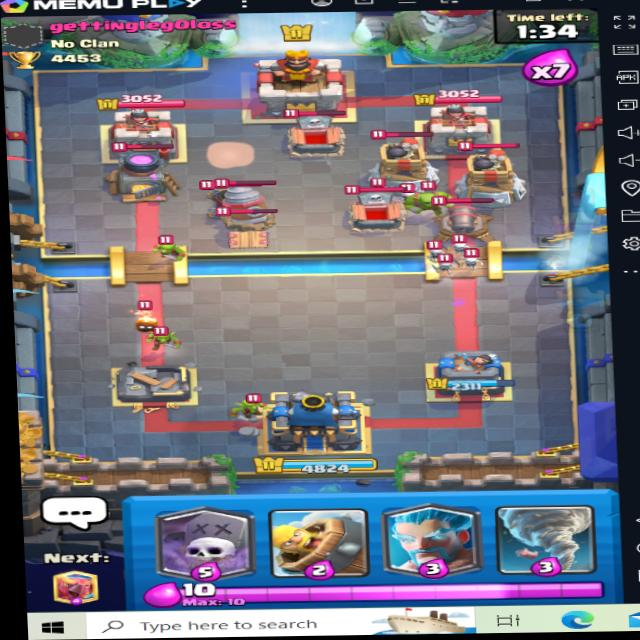bomb-tower: (456, 140, 532, 203), (369, 129, 441, 195)
brawler: (401, 181, 459, 213)
cannon: (425, 194, 508, 243)
fire-spirit: (127, 308, 164, 333)
furnace: (102, 138, 182, 201)
goblin: (232, 390, 271, 423), (150, 232, 190, 260), (153, 321, 183, 351)
goblin-drill: (209, 173, 288, 232)
skeleton: (425, 249, 461, 275), (423, 236, 455, 263), (454, 248, 482, 271), (448, 233, 476, 254)
tesla-closed: (204, 204, 287, 254)
tombstone: (340, 180, 409, 238), (275, 106, 350, 157)
